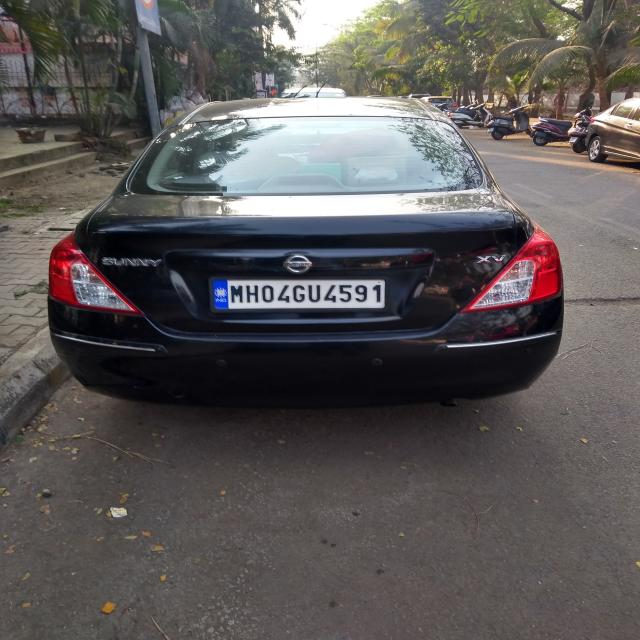Number-Plate: (217, 278, 382, 308)
